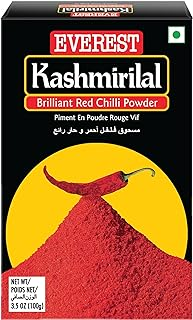Chilli Powder: (1, 2, 193, 319)
